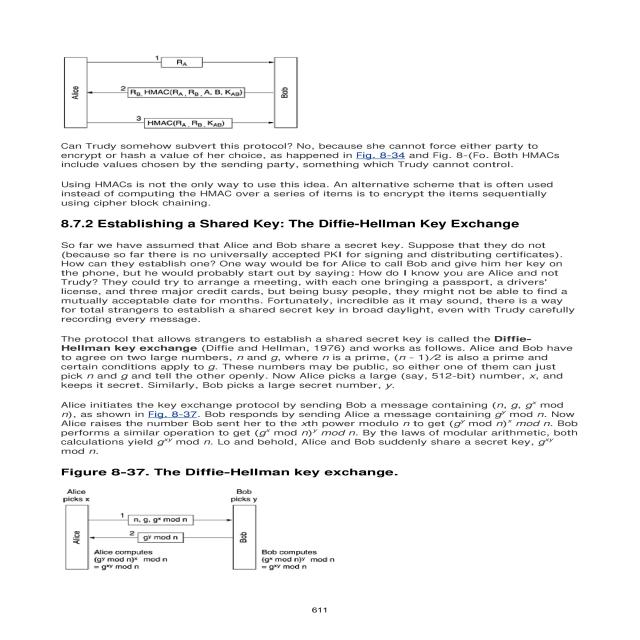diagram: (19, 458, 418, 585)
